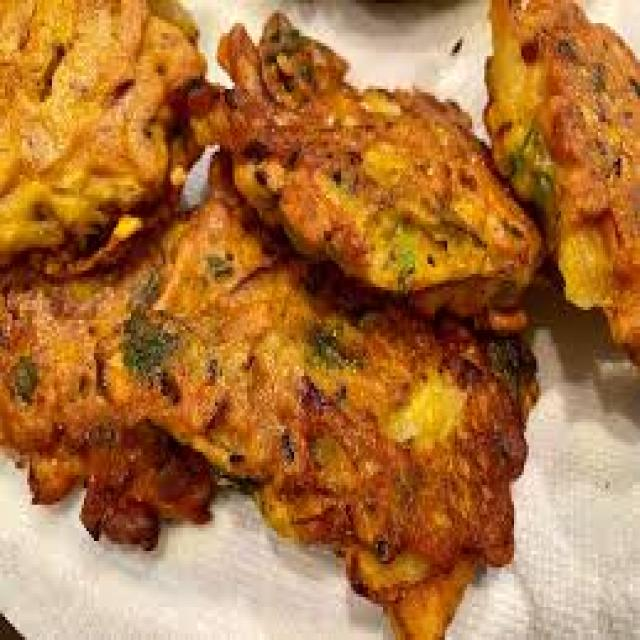BAJI: (114, 204, 532, 634), (215, 28, 527, 311), (1, 229, 216, 523), (0, 0, 206, 264), (494, 2, 636, 356)
